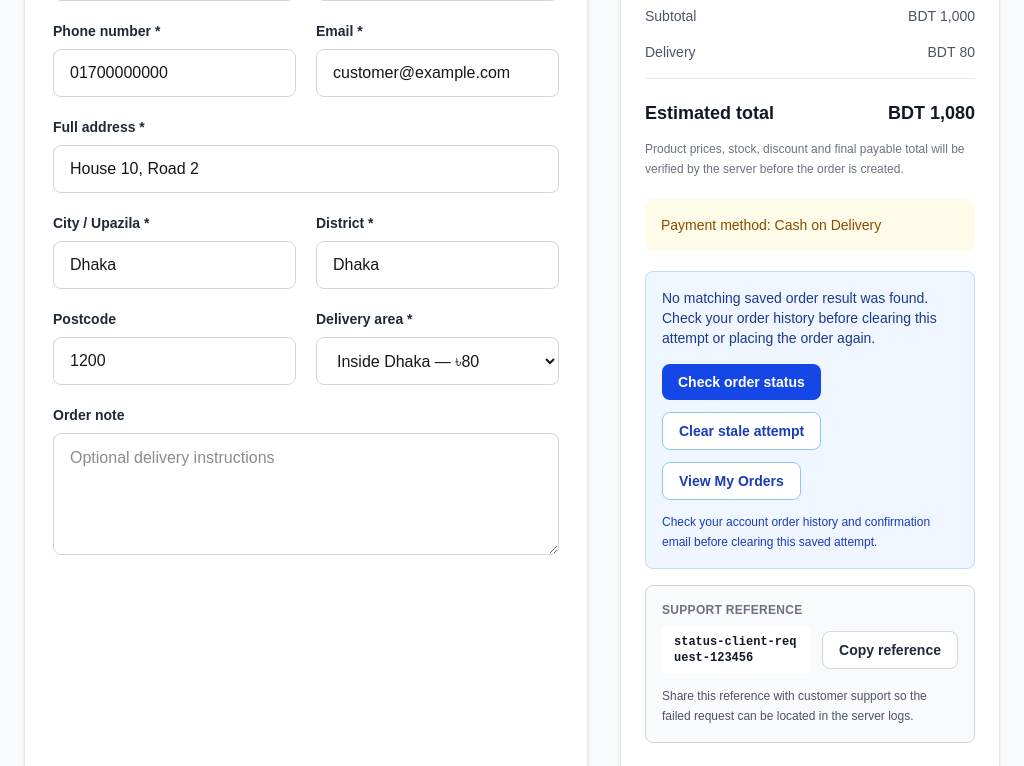
Test: CheckoutClient automatic recovery › allows a manual status check after automatic recovery cannot find the attempt
(page scrolled)
Click the button "Check order status" at (741, 382), box [662, 364, 821, 400]
(page scrolled)
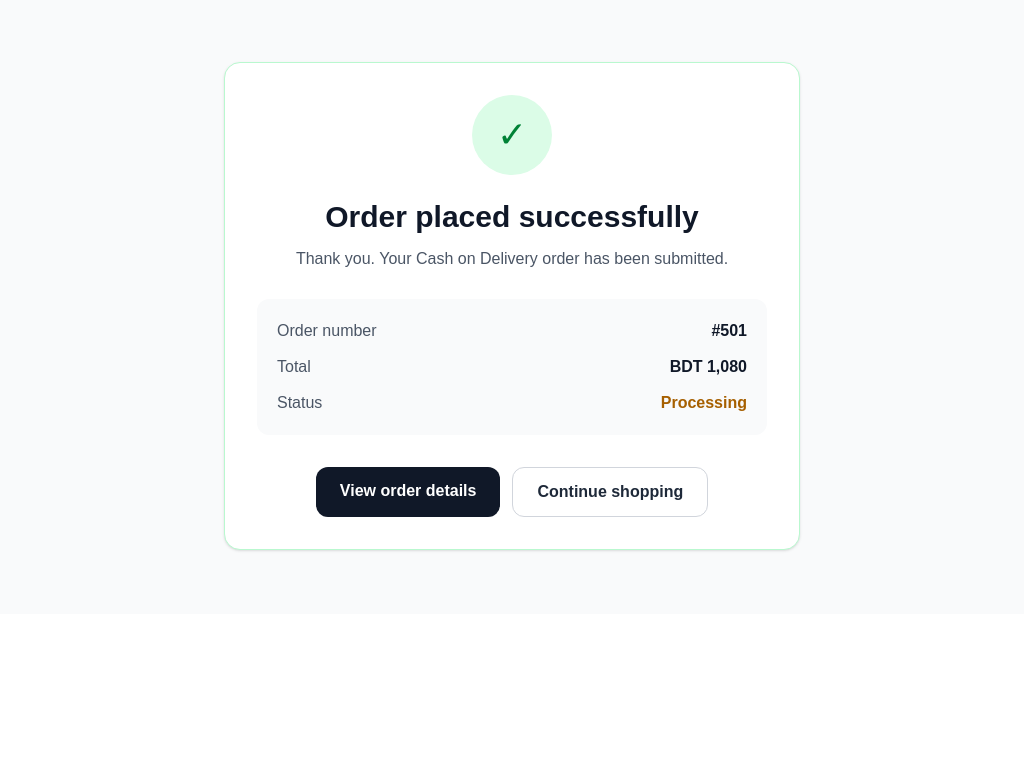
expect the heading "Order placed successfully" is shown: met, box [325, 200, 699, 233]
